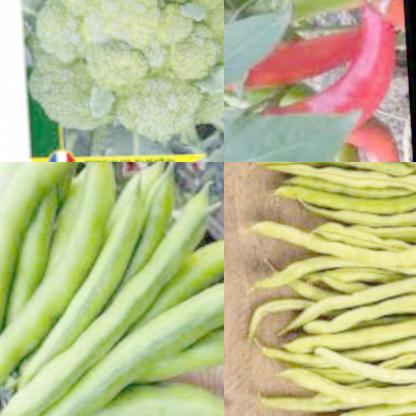beans: (0, 162, 224, 416), (228, 162, 416, 416)
broccoli: (35, 0, 224, 142)
hot pepper: (236, 0, 408, 156), (224, 26, 370, 99), (311, 105, 403, 162), (254, 0, 402, 26), (224, 0, 285, 48), (307, 115, 362, 162)
